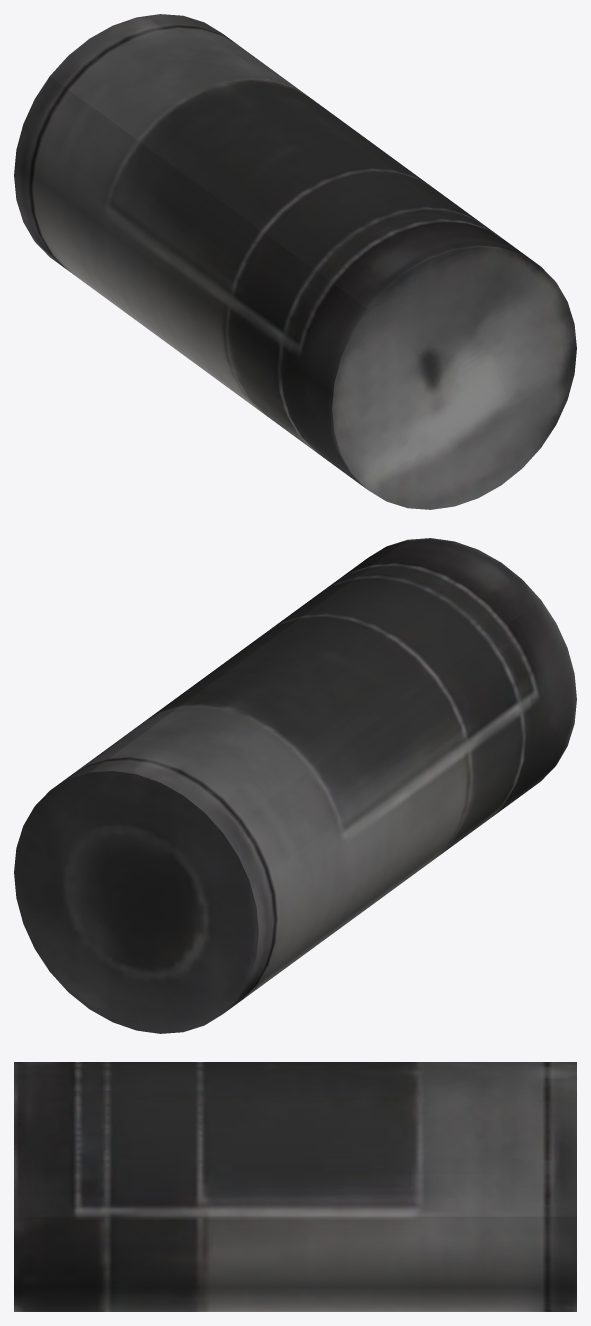
Rendered from optical_carriage__objective_primary.glb.
3 renders of one model, top to bottom at view 1: azimuth 30°, elevation 25°; view 2: azimuth 150°, elevation 25°; view 3: azimuth 270°, elevation 25°, orthographic. The views are drawn at different scales.
Visible parts, largest first — view 1: world; view 2: world; view 3: world.
Part boxes in pixels (x1,y1,x2,y2): world: (14, 14, 576, 509); world: (14, 538, 576, 1033); world: (14, 1062, 576, 1311).
Size of the model in its own units: 0.016 by 0.016 by 0.036.
1 material, 1 textured.
